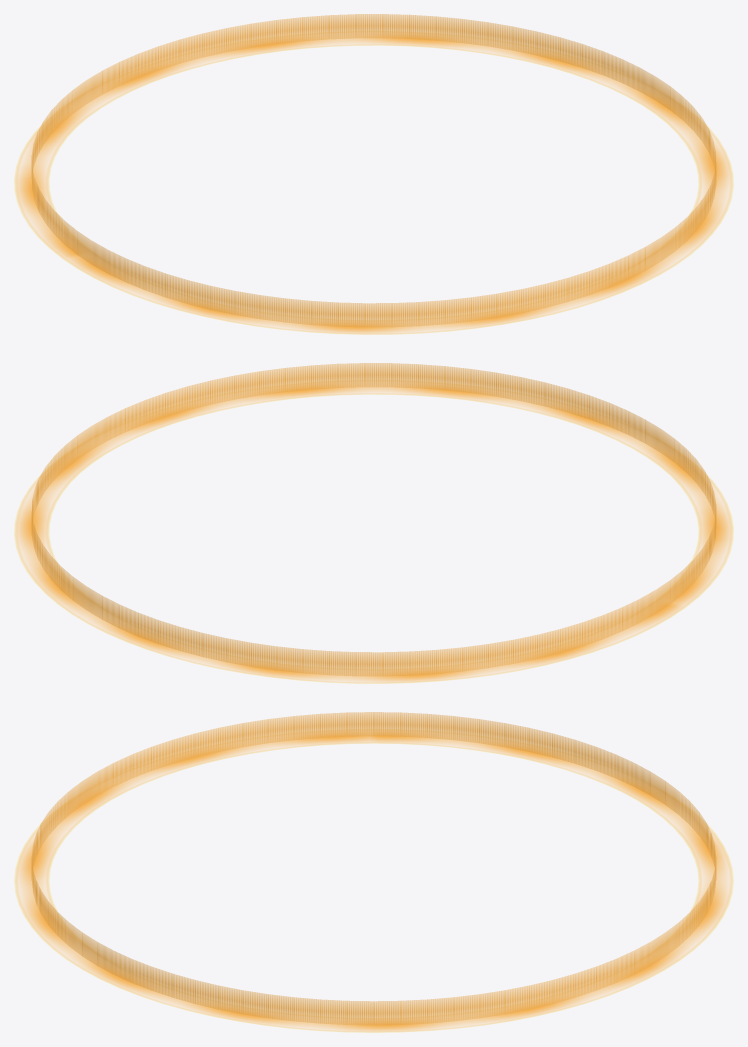
The model's file is fx_mring4.glb.
3 renders of one model, top to bottom at view 1: azimuth 30°, elevation 25°; view 2: azimuth 150°, elevation 25°; view 3: azimuth 270°, elevation 25°, orthographic.
Visible parts, largest first — view 1: fx_burst; view 2: fx_burst; view 3: fx_burst.
Boxes of the visible parts, x1=… form: fx_burst: x1=14, y1=14, x2=733, y2=334; fx_burst: x1=14, y1=363, x2=733, y2=683; fx_burst: x1=14, y1=712, x2=733, y2=1032.
Size of the model in its own units: 40.4 by 1.5 by 40.4.
1 material, 1 textured.
